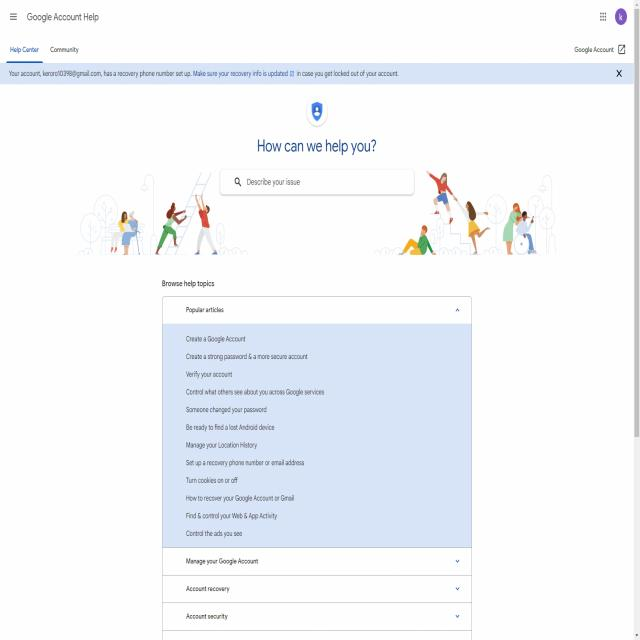menu-bar: (594, 4, 629, 28), (6, 6, 21, 26)
menu-panel: (4, 41, 82, 63)
search: (217, 164, 417, 198)
